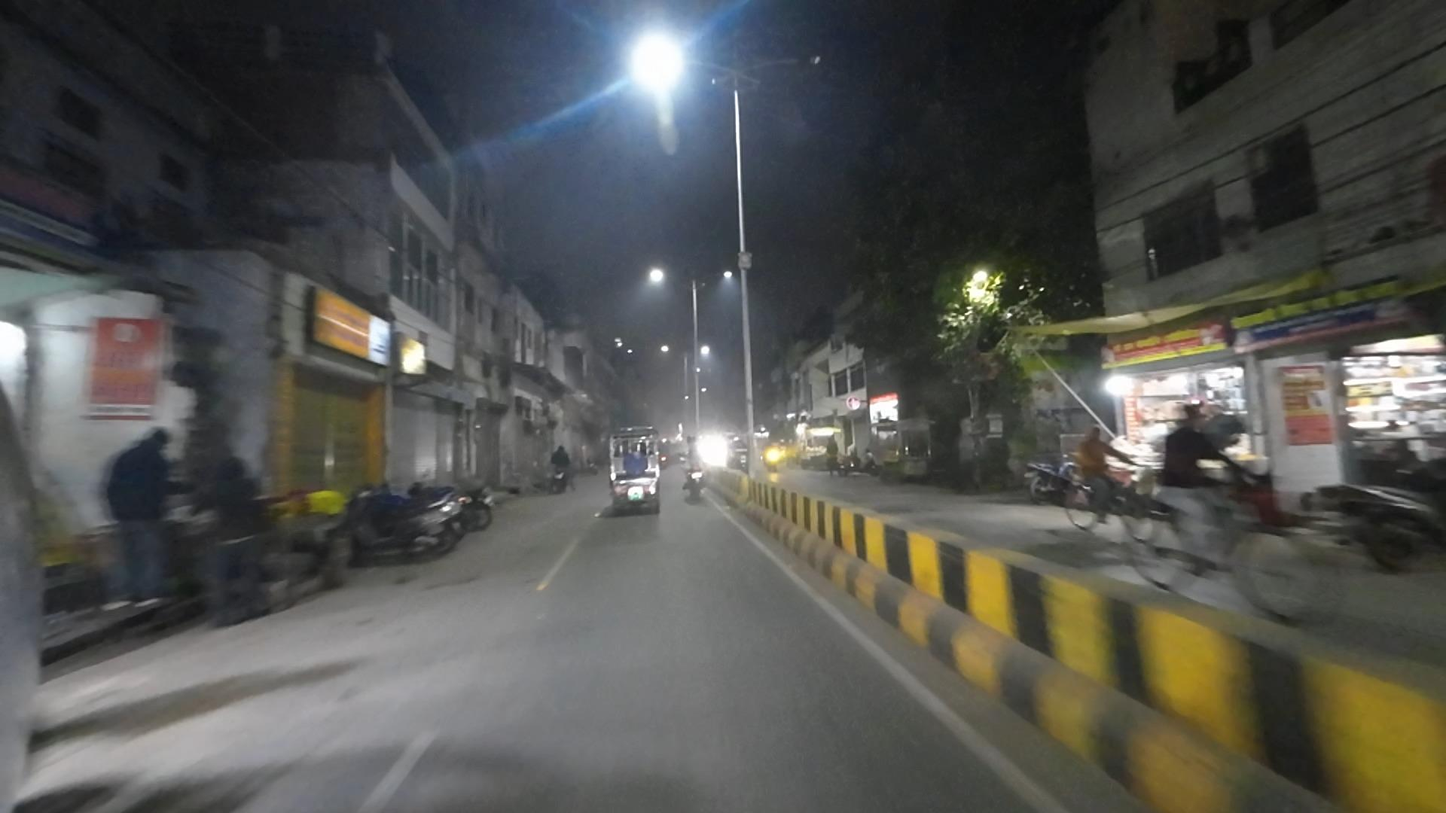streetlight: (762, 51, 823, 70)
